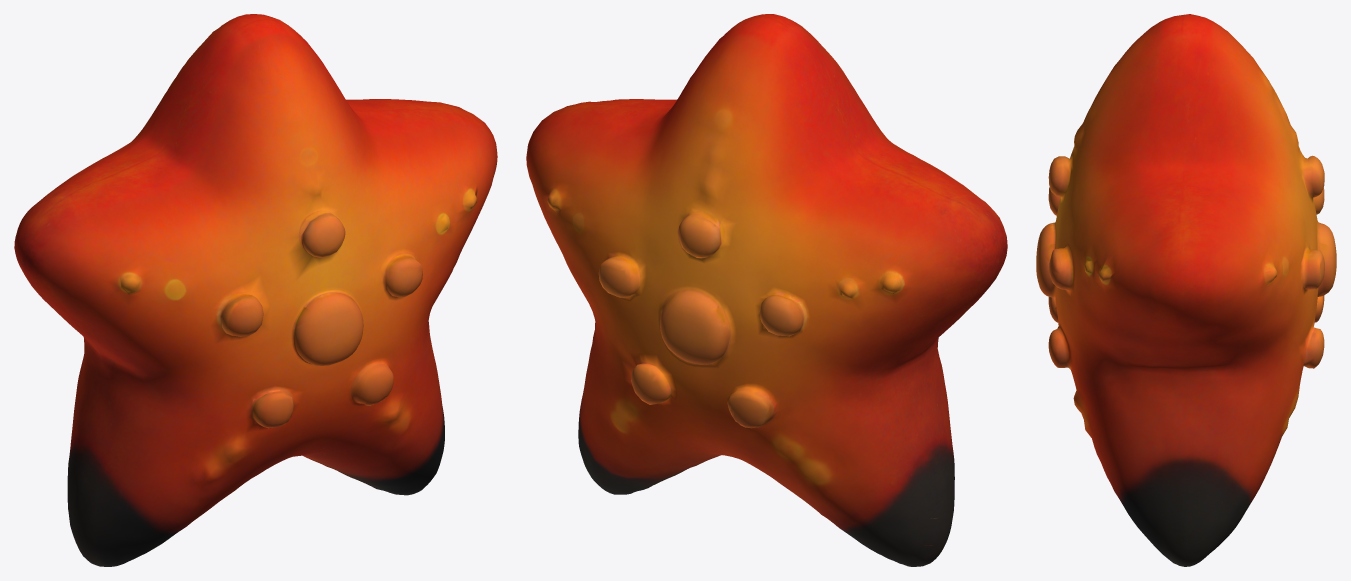
File: Fiery_Starfish_0729114614_texture.fbx
3 renders of one model, left to right at view 1: azimuth 30°, elevation 25°; view 2: azimuth 150°, elevation 25°; view 3: azimuth 270°, elevation 25°, orthographic. The views are drawn at different scales.
Visible parts, largest first — view 1: input; view 2: input; view 3: input.
Part boxes in pixels (<box>): input: <box>14,14,497,566</box>; input: <box>526,14,1007,566</box>; input: <box>1036,14,1336,566</box>.
Bounding box in the file's own units: 188 × 196 × 112.
1 material, 1 textured.
